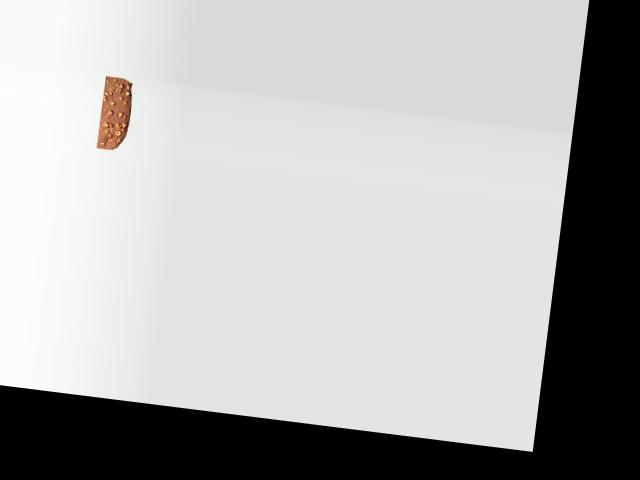chocolate: (93, 76, 140, 152)
